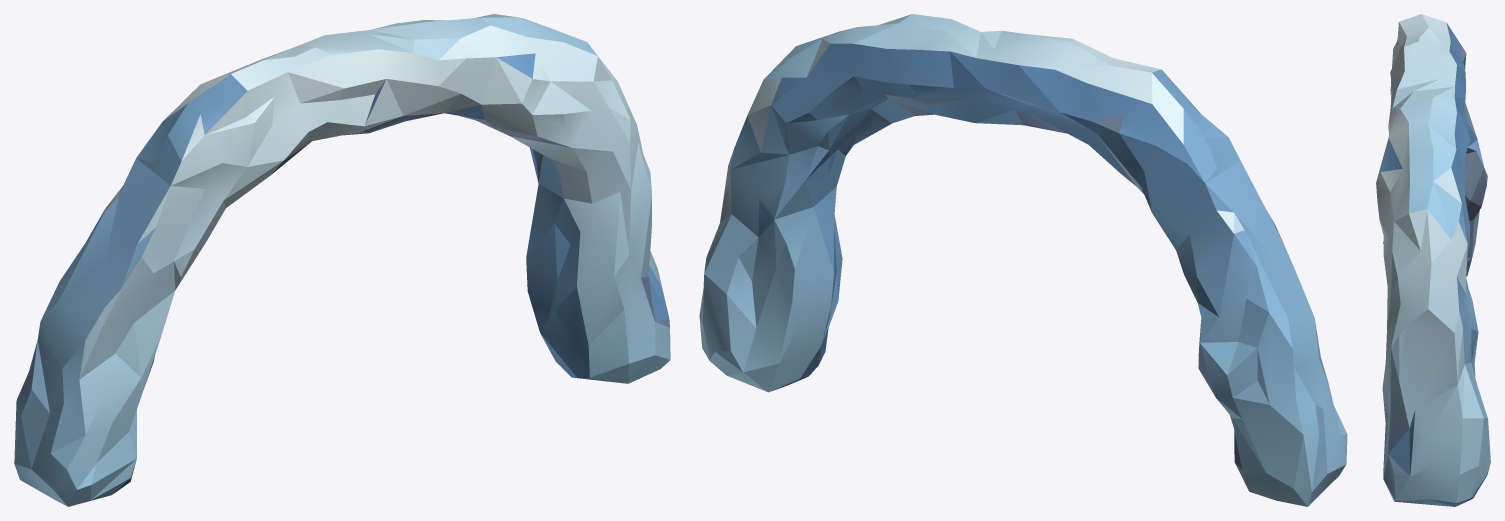
File: IceArch-1-col.glb
3 renders of one model, left to right at view 1: azimuth 30°, elevation 25°; view 2: azimuth 150°, elevation 25°; view 3: azimuth 270°, elevation 25°, orthographic. The views are drawn at different scales.
Visible parts, largest first — view 1: IceArch-1-col; view 2: IceArch-1-col; view 3: IceArch-1-col.
Boxes of the visible parts, x1=… form: IceArch-1-col: x1=14, y1=14, x2=670, y2=506; IceArch-1-col: x1=699, y1=14, x2=1347, y2=506; IceArch-1-col: x1=1376, y1=14, x2=1490, y2=506.
Bounding box in the file's own units: 18.34 × 11.13 × 3.48.
Materials: 1 (1 with a texture image).
